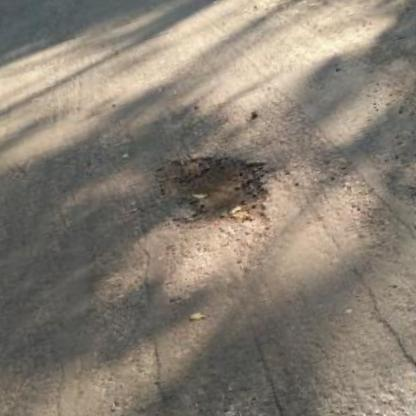pothole: (146, 131, 289, 251)
